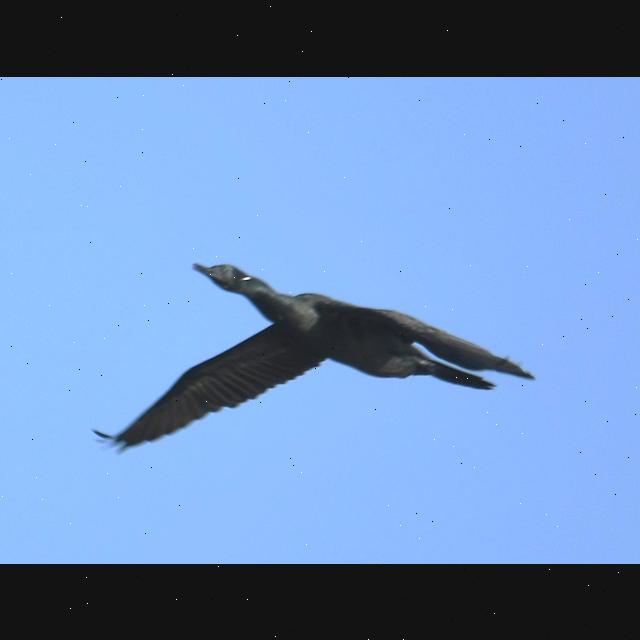cormorant: (88, 253, 536, 463)
